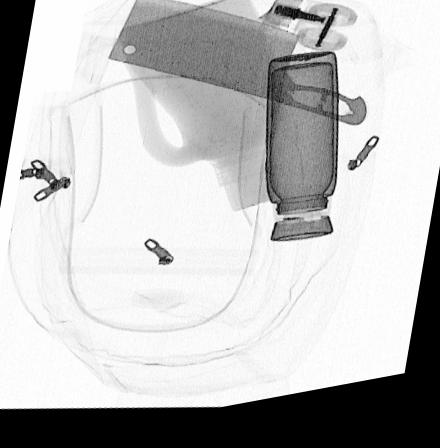Knife: (104, 0, 367, 139)
